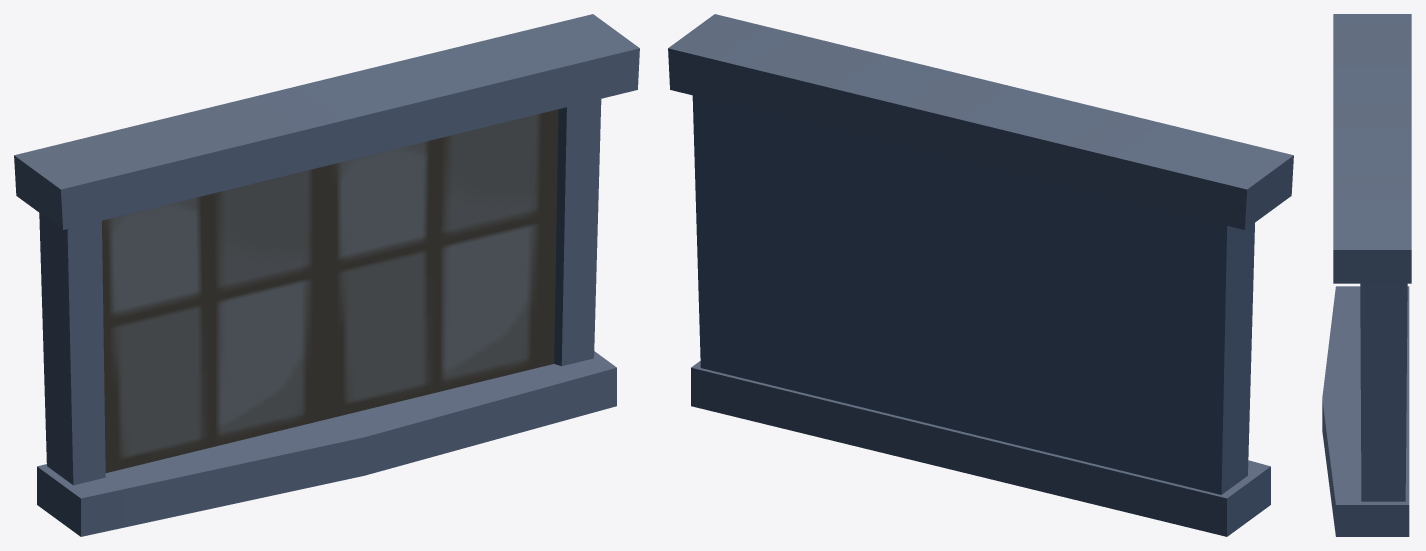
Rendered from Window_A8.fbx.
3 views of the same model, side by side, from view 1: azimuth 30°, elevation 25°; view 2: azimuth 150°, elevation 25°; view 3: azimuth 270°, elevation 25° (orthographic). The views are drawn at different scales.
Parts seen in each view (by area): view 1: Window_A8; view 2: Window_A8; view 3: Window_A8.
Part boxes in pixels (x1,y1,x2,y2): Window_A8: (14, 14, 639, 536); Window_A8: (668, 14, 1293, 536); Window_A8: (1322, 14, 1411, 536).
Size of the model in its own units: 321 by 187 by 51.42.
